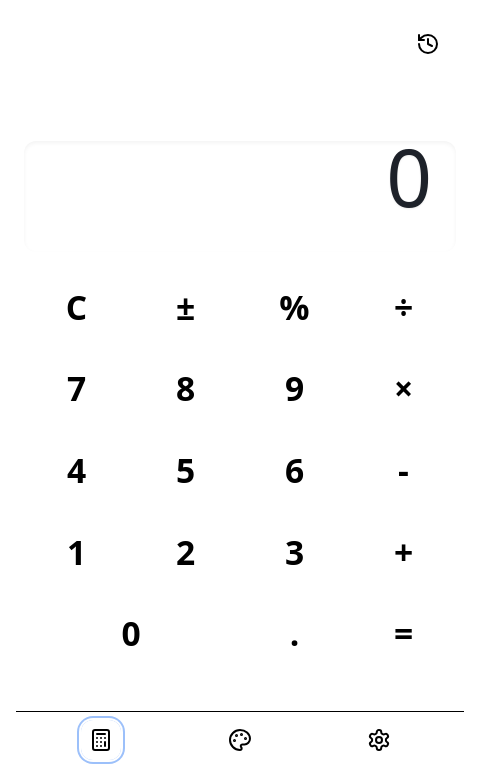
Test: Multi-language UI integration › shows all settings titles and buttons in Turkish
Click the button named "Navigate to Ayarlar" at [379, 740], box [359,720,399,760]
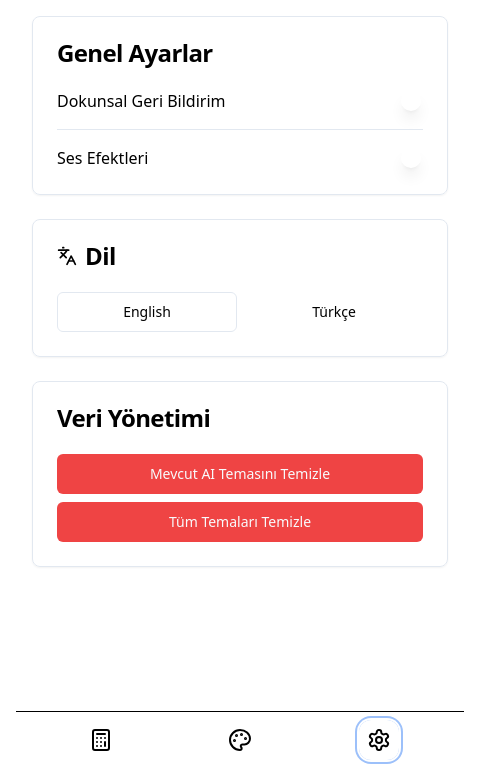
Expected: the heading "Genel Ayarlar" is shown, [57,36,213,69]
Expected: the heading "Veri Yönetimi" is shown, [57,401,210,434]
Expected: the heading "Dil" is shown, [57,239,116,272]
